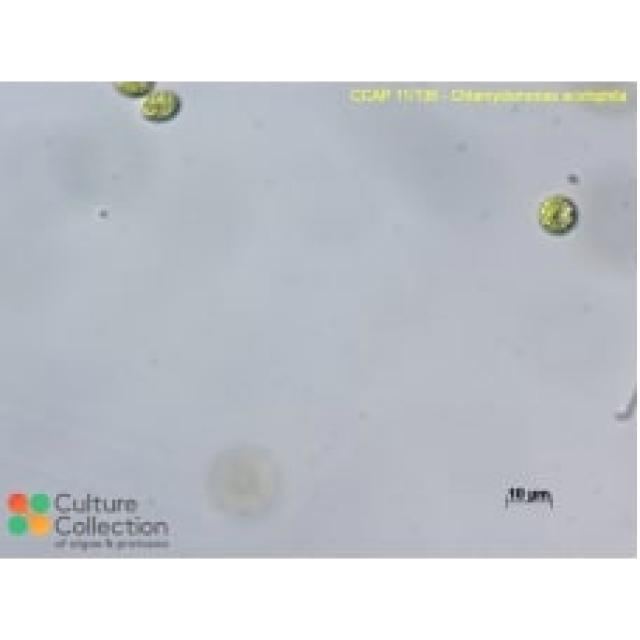Green Algae: (533, 188, 581, 236), (135, 84, 185, 124)
